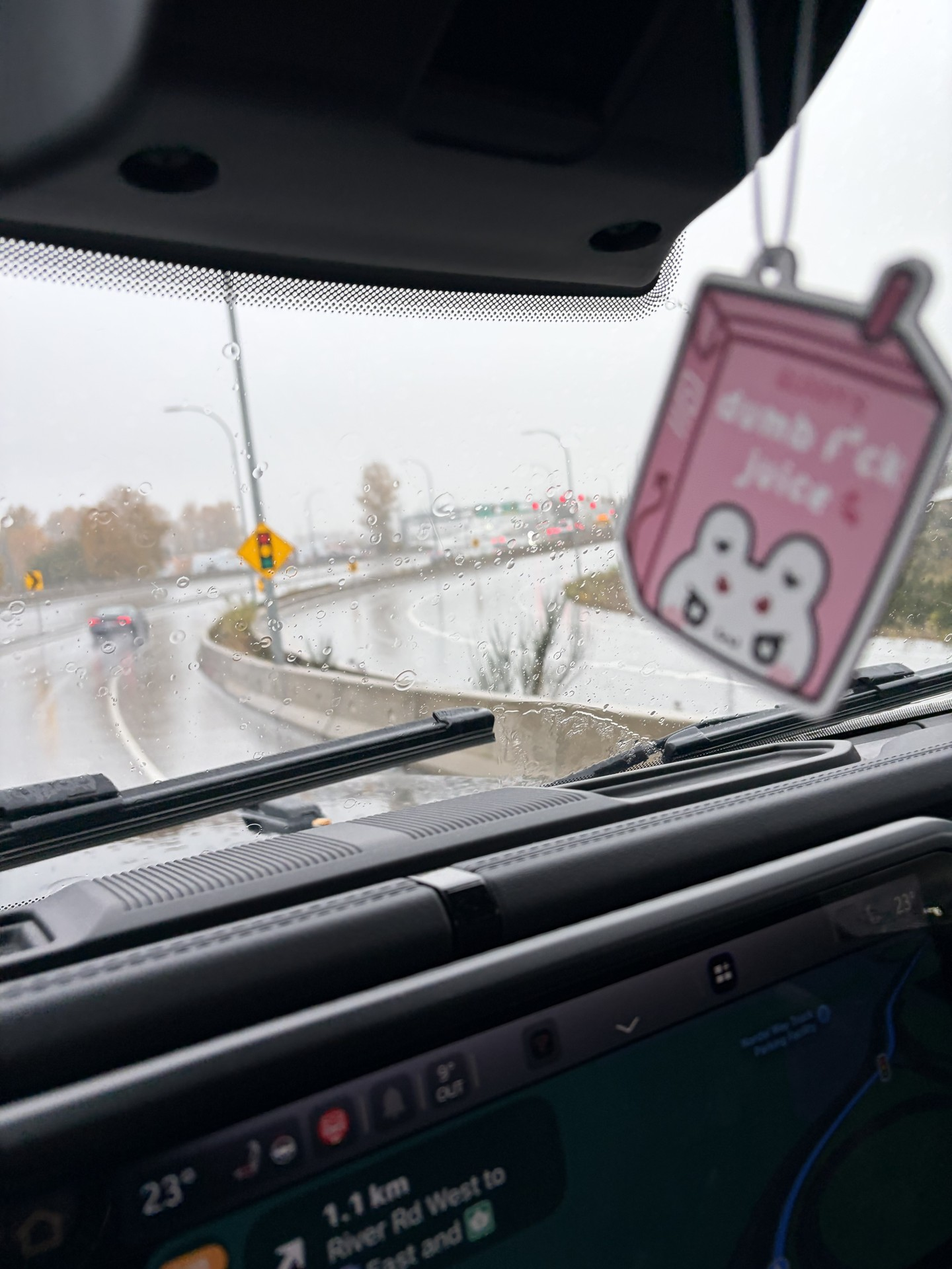signal_ahead: (219, 487, 315, 602)
